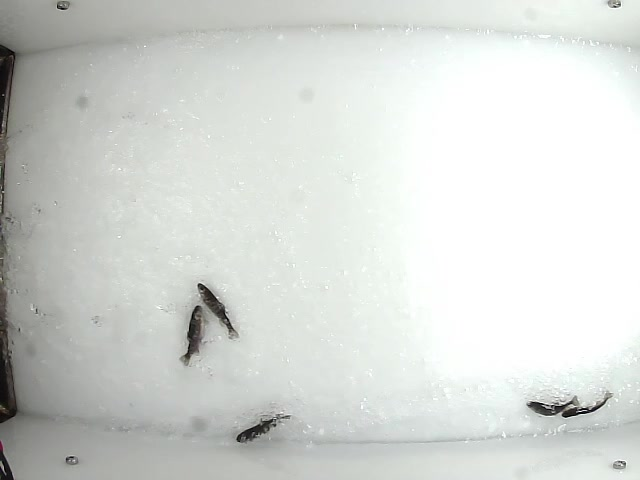fish: (196, 280, 240, 343), (234, 410, 295, 445), (179, 301, 206, 368), (559, 390, 613, 419), (525, 395, 582, 418)
